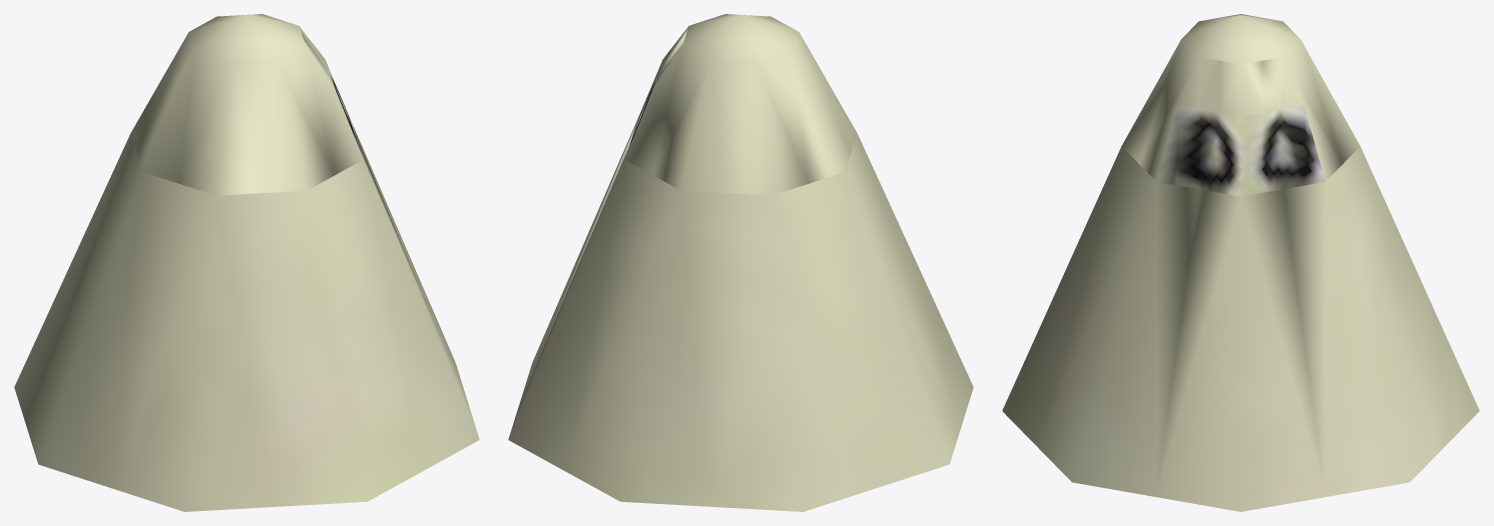
The model's file is hill.dae.
The picture shows the model from 3 angles, left to right: view 1: azimuth 30°, elevation 25°; view 2: azimuth 150°, elevation 25°; view 3: azimuth 270°, elevation 25°; orthographic projection.
Visible parts, largest first — view 1: Circle; view 2: Circle; view 3: Circle.
Boxes of the visible parts, x1,y1,x2,y2 form: Circle: (14,14,479,511); Circle: (508,14,973,511); Circle: (1002,14,1479,511).
Bounding box in the file's own units: 2 × 2 × 1.83.
Materials: 1 (1 with a texture image).
